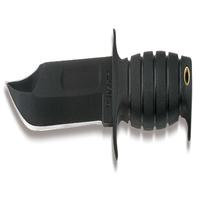knife: (4, 28, 194, 166)
